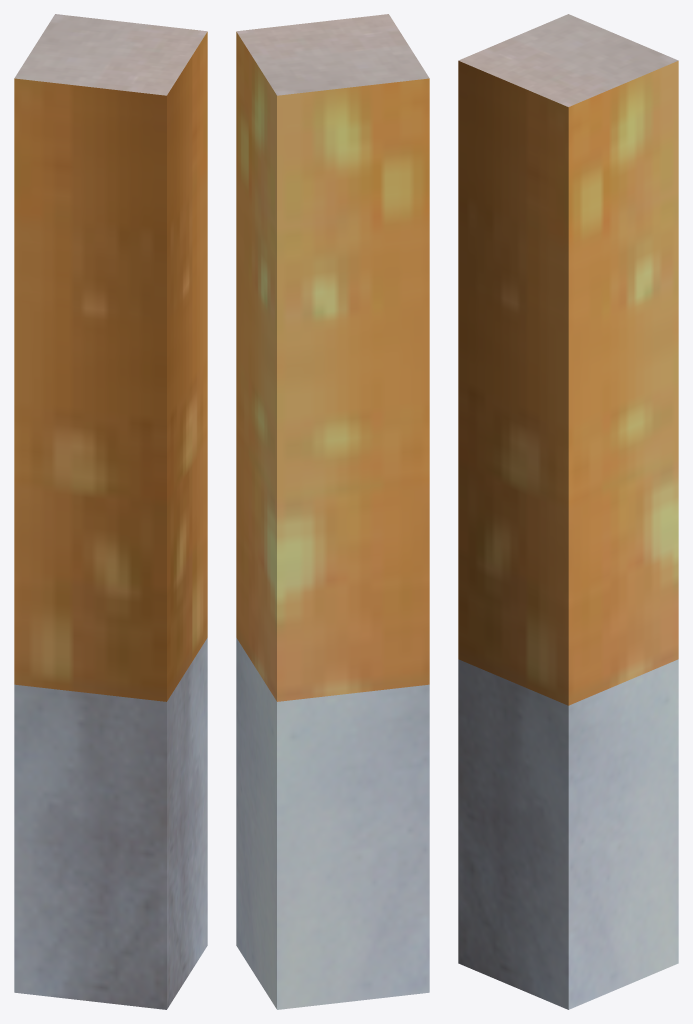
The model's file is cigarette_butt.fbx.
3 renders of one model, left to right at view 1: azimuth 30°, elevation 25°; view 2: azimuth 150°, elevation 25°; view 3: azimuth 270°, elevation 25°, orthographic.
Visible parts, largest first — view 1: CigaretteButt; view 2: CigaretteButt; view 3: CigaretteButt.
Part boxes in pixels (<box>): CigaretteButt: <box>14,14,207,1009</box>; CigaretteButt: <box>236,14,429,1009</box>; CigaretteButt: <box>458,14,678,1009</box>.
Bounding box in the file's own units: 10.47 × 47.29 × 10.47.
1 material, 1 textured.
